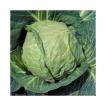cabbage: (21, 20, 85, 82)
